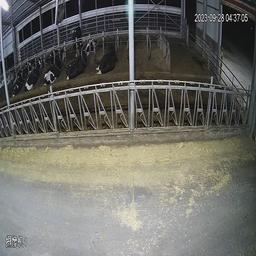cow: (94, 41, 121, 79), (63, 42, 89, 81), (3, 57, 24, 99), (39, 48, 60, 85), (21, 56, 37, 89), (69, 21, 84, 41)
